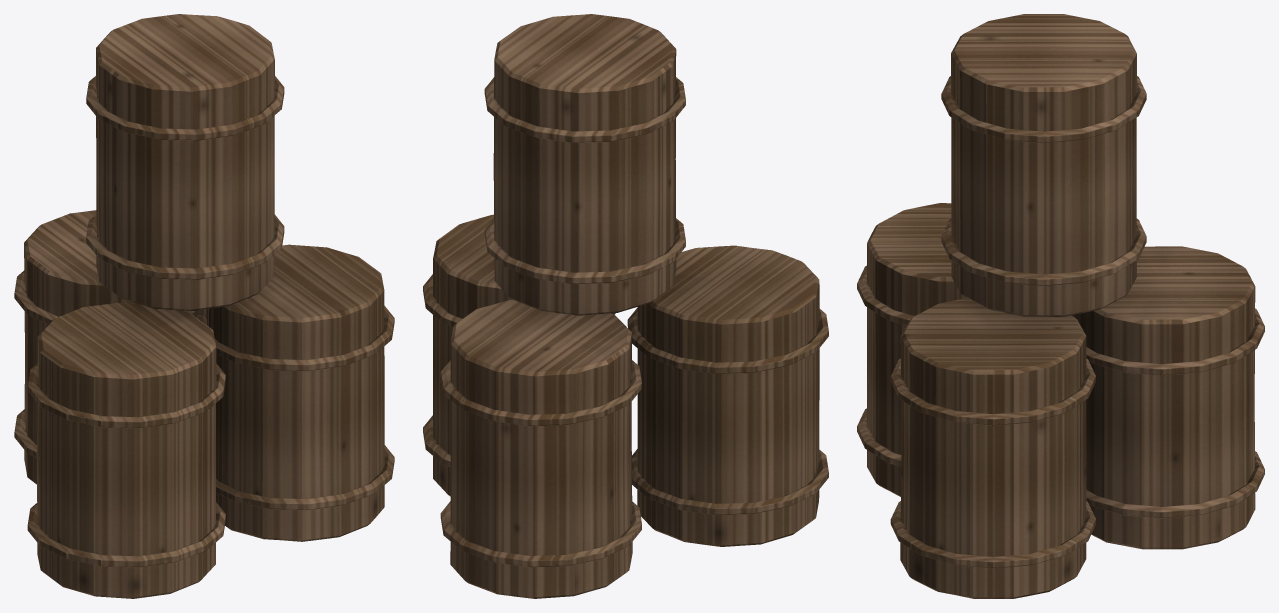
File: p_barrels.glb
3 renders of one model, left to right at view 1: azimuth 30°, elevation 25°; view 2: azimuth 150°, elevation 25°; view 3: azimuth 270°, elevation 25°, orthographic. The views are drawn at different scales.
Parts seen in each view (by area): view 1: barrels; view 2: barrels; view 3: barrels.
Boxes of the visible parts, x1=… form: barrels: x1=14, y1=14, x2=394, y2=598; barrels: x1=423, y1=14, x2=828, y2=598; barrels: x1=857, y1=14, x2=1264, y2=598.
Size of the model in its own units: 1.51 by 1.84 by 1.45.
Materials: 1 (1 with a texture image).
